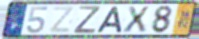5: (26, 5, 49, 34)
8: (151, 5, 174, 34)
A: (94, 6, 124, 34)
X: (122, 6, 151, 34)
Z: (72, 5, 103, 34), (48, 5, 76, 34)
